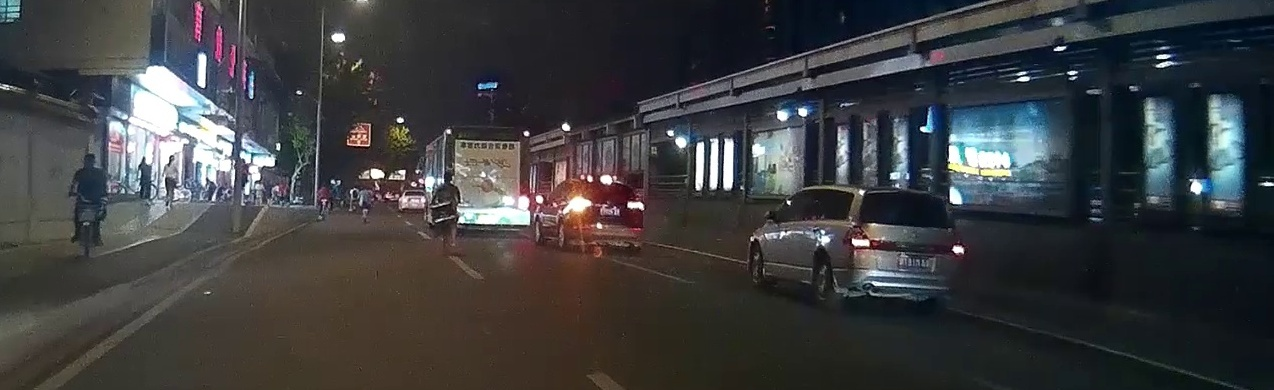L_light: (844, 226, 874, 250), (574, 199, 593, 211)
R_light: (945, 240, 963, 256), (626, 200, 643, 211)
T_light: (900, 191, 920, 197), (602, 182, 612, 185)
night-left: (573, 178, 644, 255)
night-no: (837, 187, 964, 316)
